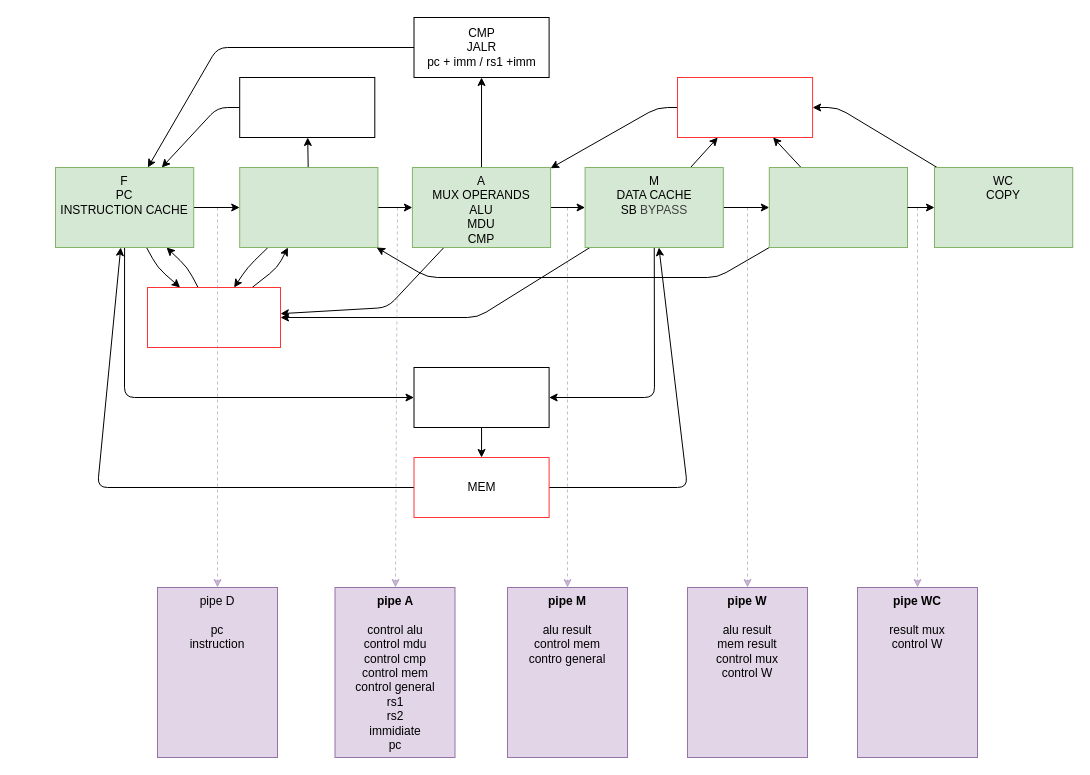
Image size: 1090x775. Some labels were removed from this diagram. The shapes that lost their labels are listed below. From the top down, each one's centre as x and y in pixels, then its label:
At pixel 307 107: "JAL pc + imm".
At pixel 744 107: "BYPASS".
At pixel 308 207: "D CONTROL UNIT REGISTERS".
At pixel 838 207: "W MUX".
At pixel 213 317: "HAZARD".
At pixel 481 397: "ARB".
